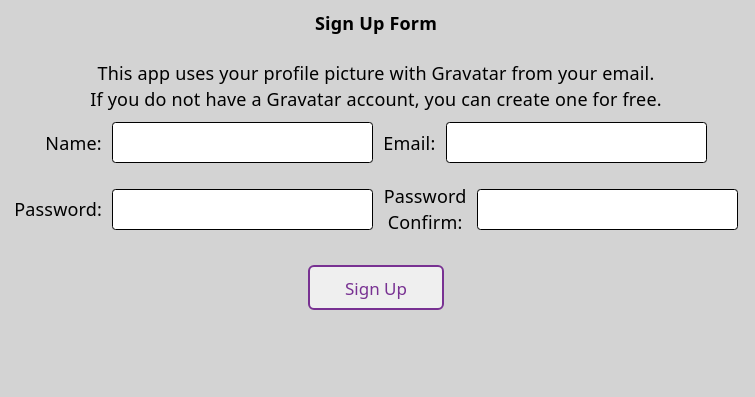
SignUp component › displays validation errors returned by the API
Click the button "Sign Up".
click(376, 287)  # box [308,265,444,310]
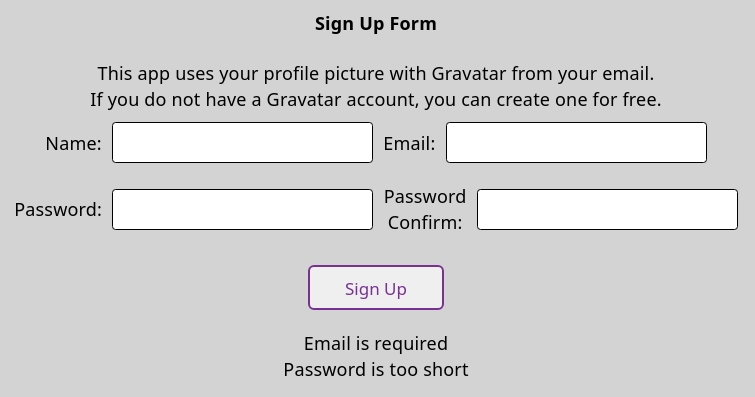
Check: the text "Email is required" is shown, box [304,330,448,354]
Check: the text "Password is too short" is shown, box [283,357,469,381]
